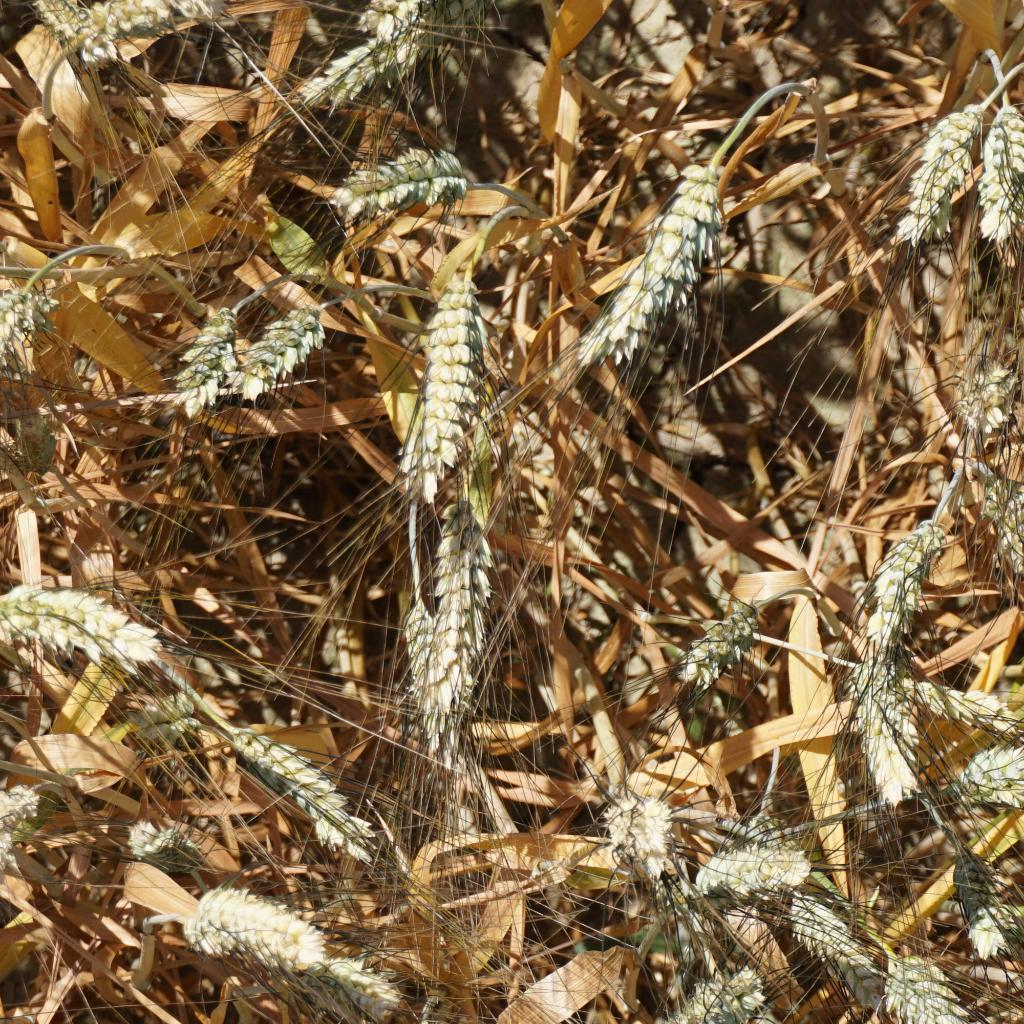0-0: (237, 726, 365, 841), (0, 568, 152, 664), (428, 499, 502, 694), (777, 888, 887, 1018), (382, 583, 466, 749), (190, 881, 323, 981), (420, 263, 479, 453), (655, 157, 725, 308), (884, 956, 1024, 1024), (864, 531, 945, 647), (851, 665, 915, 802), (689, 837, 826, 900), (945, 836, 1016, 956), (236, 301, 315, 403), (342, 142, 466, 206), (172, 295, 236, 409), (687, 601, 760, 699), (907, 105, 965, 226), (907, 667, 1005, 738), (605, 787, 685, 867), (954, 728, 1024, 819), (952, 356, 1020, 448), (981, 477, 1024, 618), (0, 283, 35, 452), (979, 109, 1024, 240), (290, 44, 419, 88), (124, 687, 208, 753), (643, 972, 749, 1024), (328, 950, 393, 1024), (113, 0, 216, 45), (38, 0, 99, 75), (0, 779, 44, 880), (116, 809, 172, 857), (359, 0, 425, 38), (405, 1011, 453, 1024)
